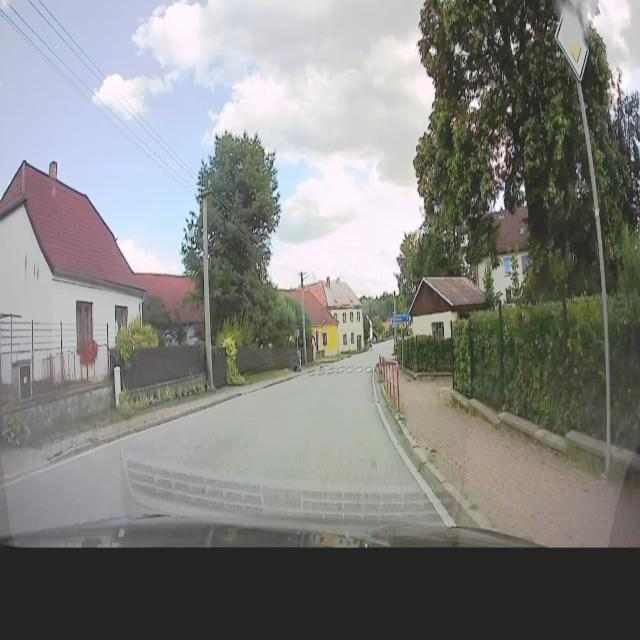Priority road: (554, 10, 591, 84)
